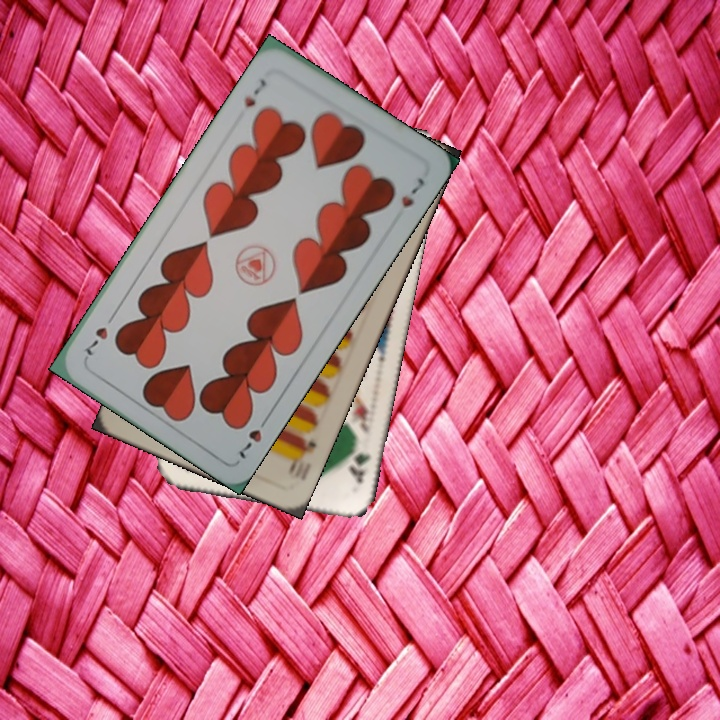E10: (284, 433, 320, 484)
GK: (345, 449, 374, 486)
H7: (235, 411, 273, 462), (240, 75, 270, 111)
